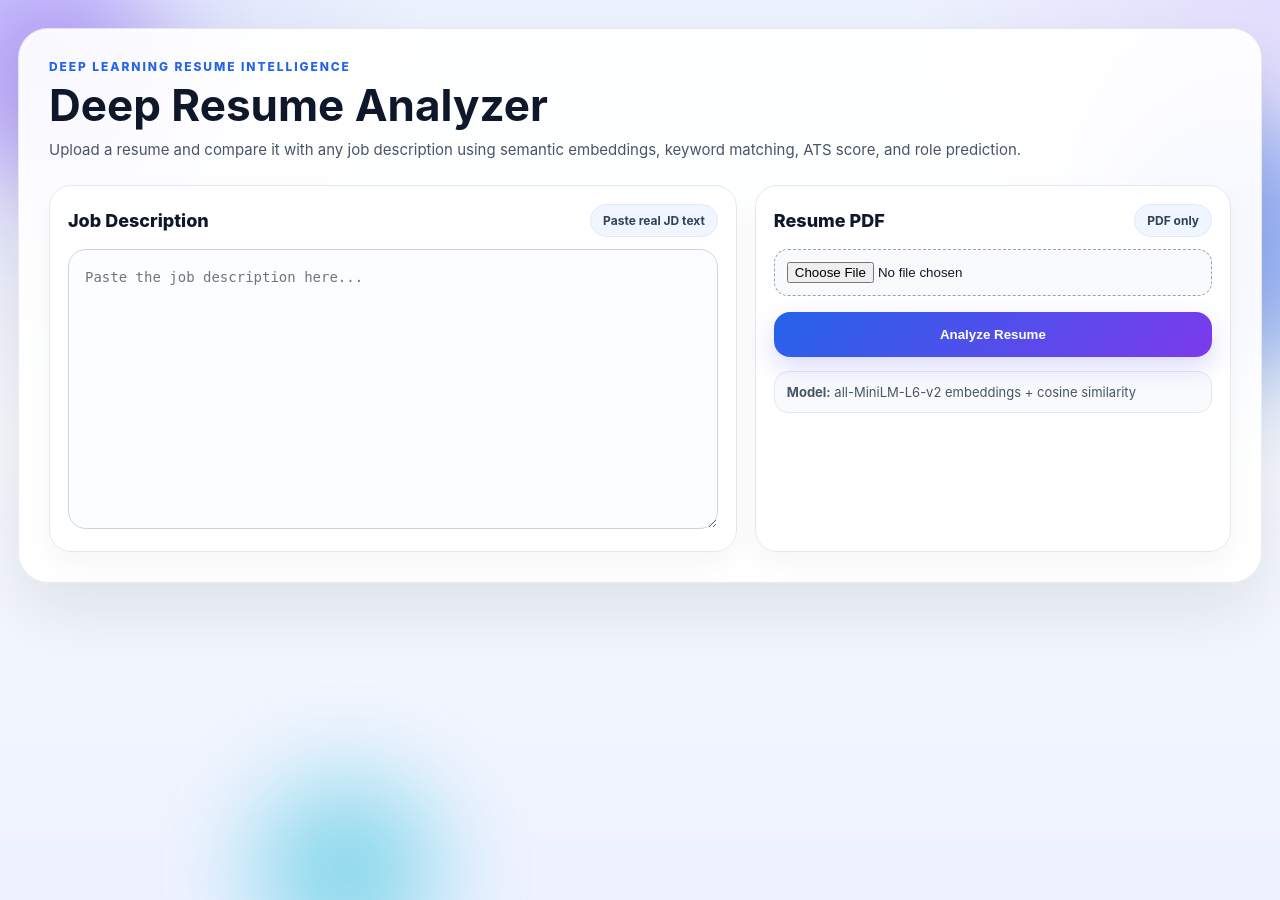
Test: submits a valid PDF and job description to the analyzer API
Earlier steps of the test are not shown.
In the text box labelled "Job Description": [393, 389] box [68,249,718,529], type "Looking for a Python backend developer with SQL experience."
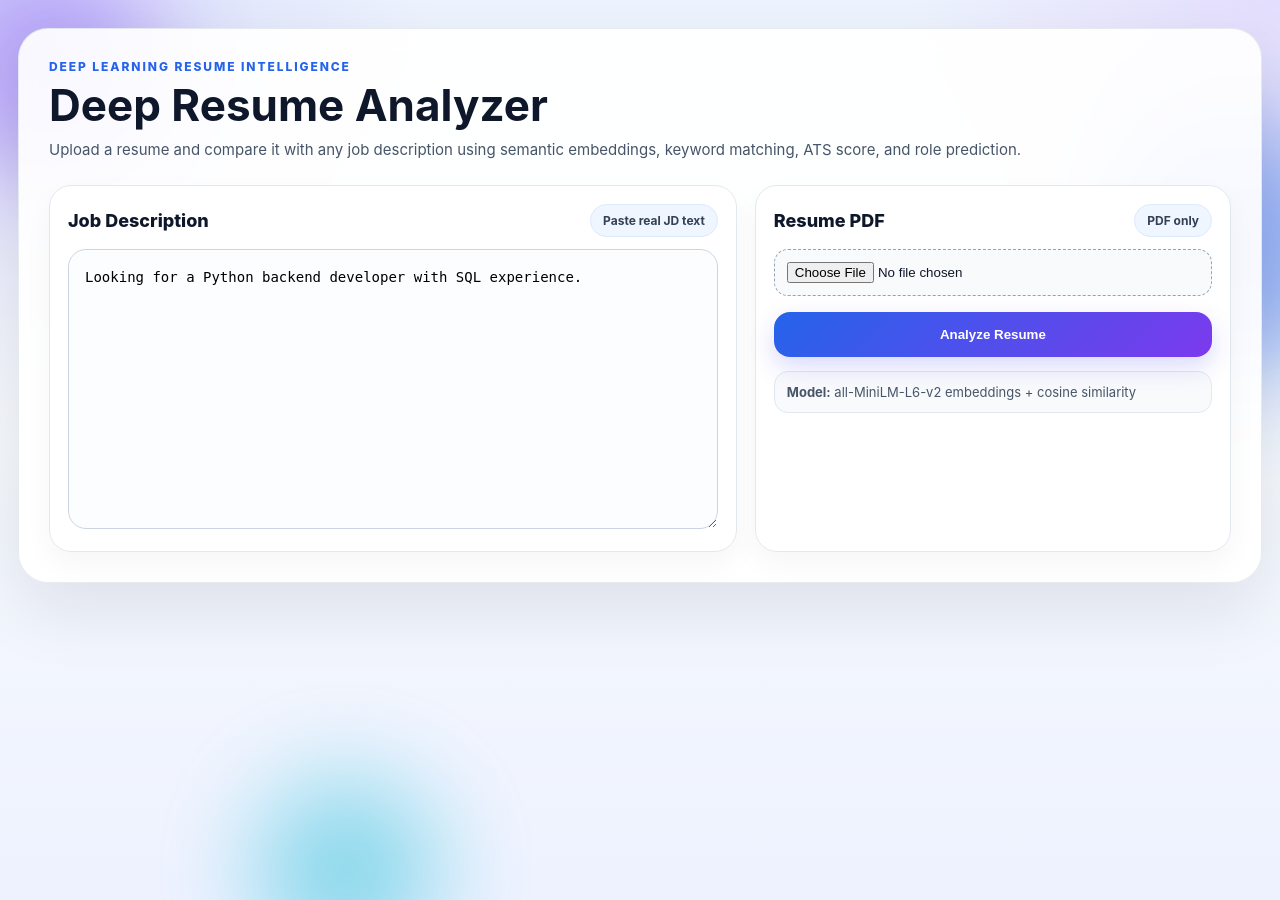
Click the button "Analyze Resume": [993, 335] box [774,312,1212,357]
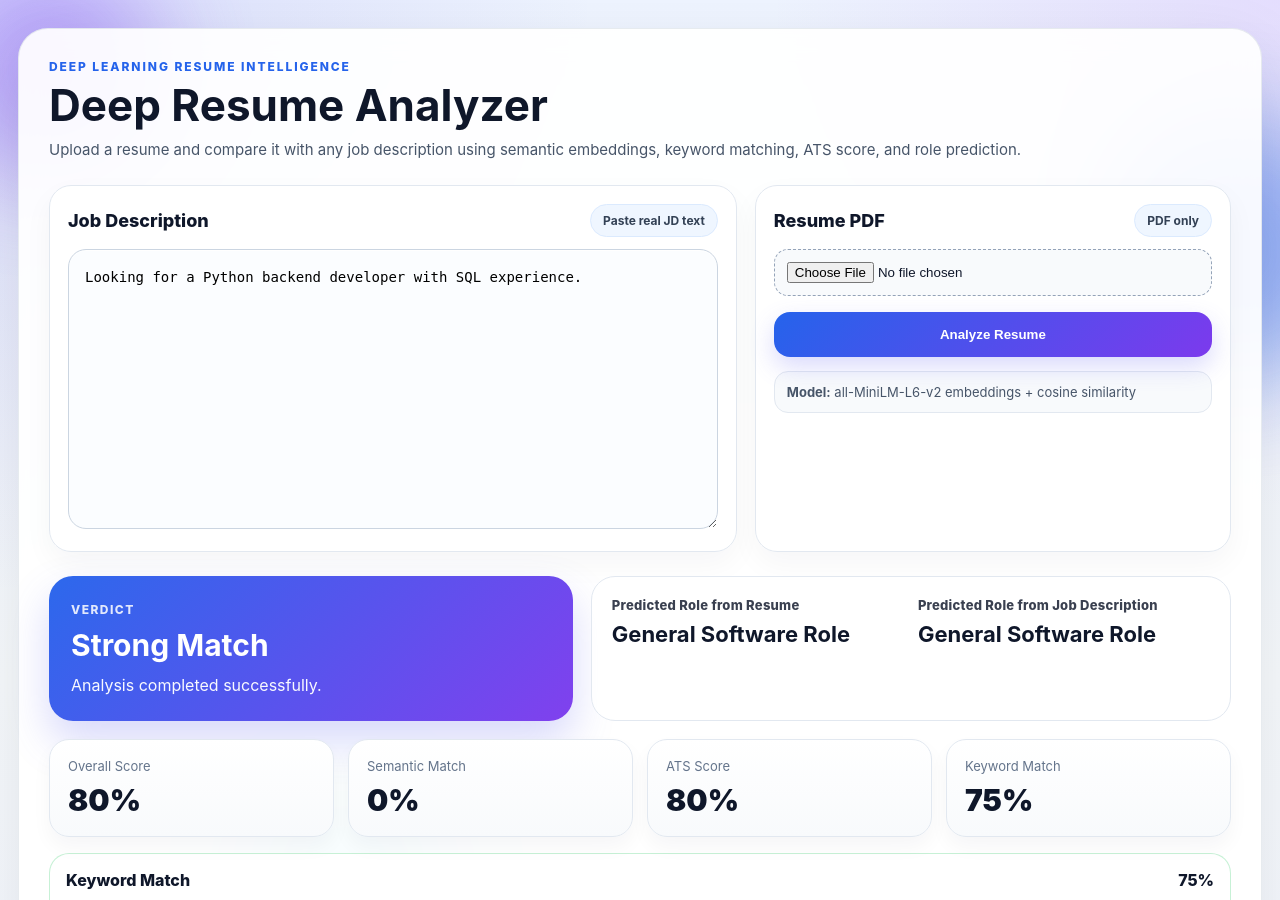
Result: the heading "Strong Match" is shown at [71,627,269,663]
